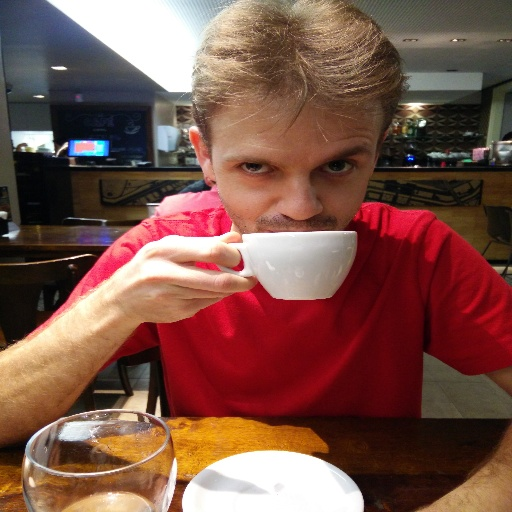hand: (2, 247, 231, 437)
